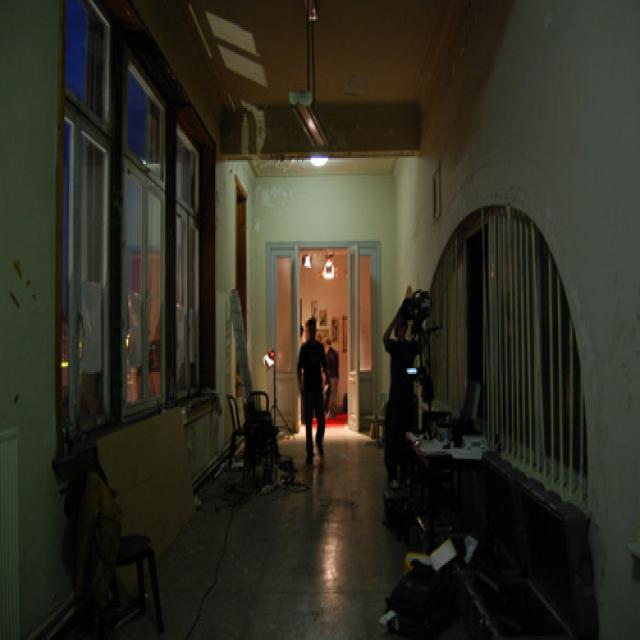People: (292, 309, 336, 475), (387, 304, 416, 467)
Table: (405, 409, 498, 535)
chair: (78, 465, 161, 619), (231, 384, 276, 535)
